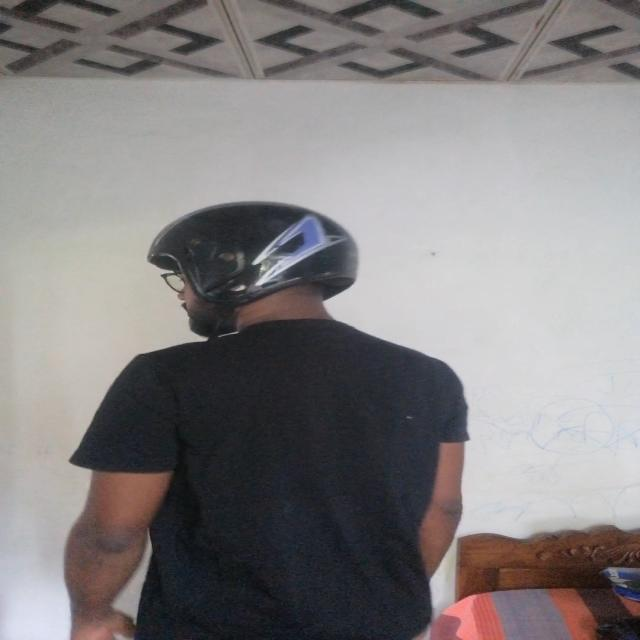Helmet_Wearer: (113, 189, 376, 378)
Person: (68, 194, 486, 640)
